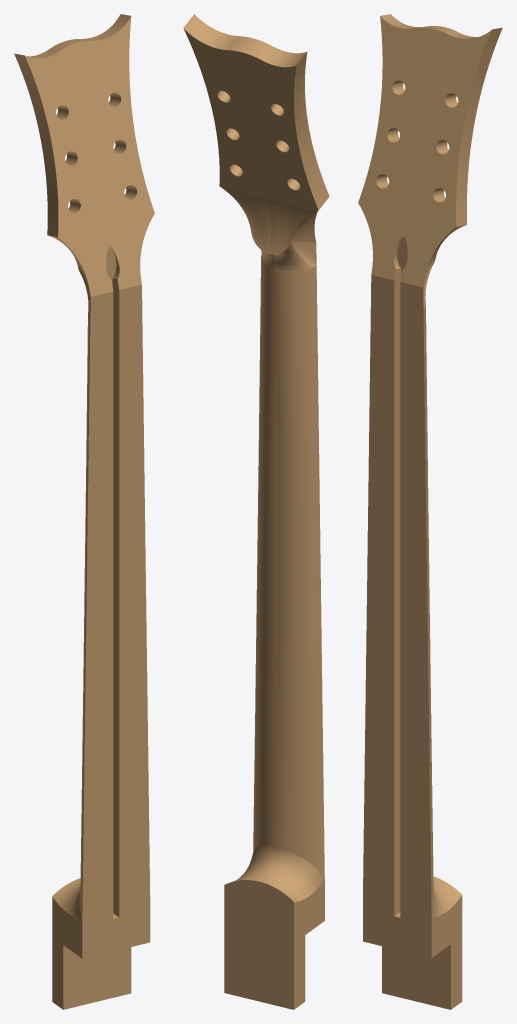
The model's file is shared_neck.glb.
3 renders of one model, left to right at view 1: azimuth 30°, elevation 25°; view 2: azimuth 150°, elevation 25°; view 3: azimuth 330°, elevation 25°, orthographic. The views are drawn at different scales.
Visible parts, largest first — view 1: shared_neck; view 2: shared_neck; view 3: shared_neck.
Boxes of the visible parts, bbox=[...] form: shared_neck: bbox=[14, 14, 154, 1009]; shared_neck: bbox=[183, 14, 329, 1009]; shared_neck: bbox=[358, 14, 502, 1009].
Bounding box in the file's own units: 0.0889 × 0.7493 × 0.0709.
